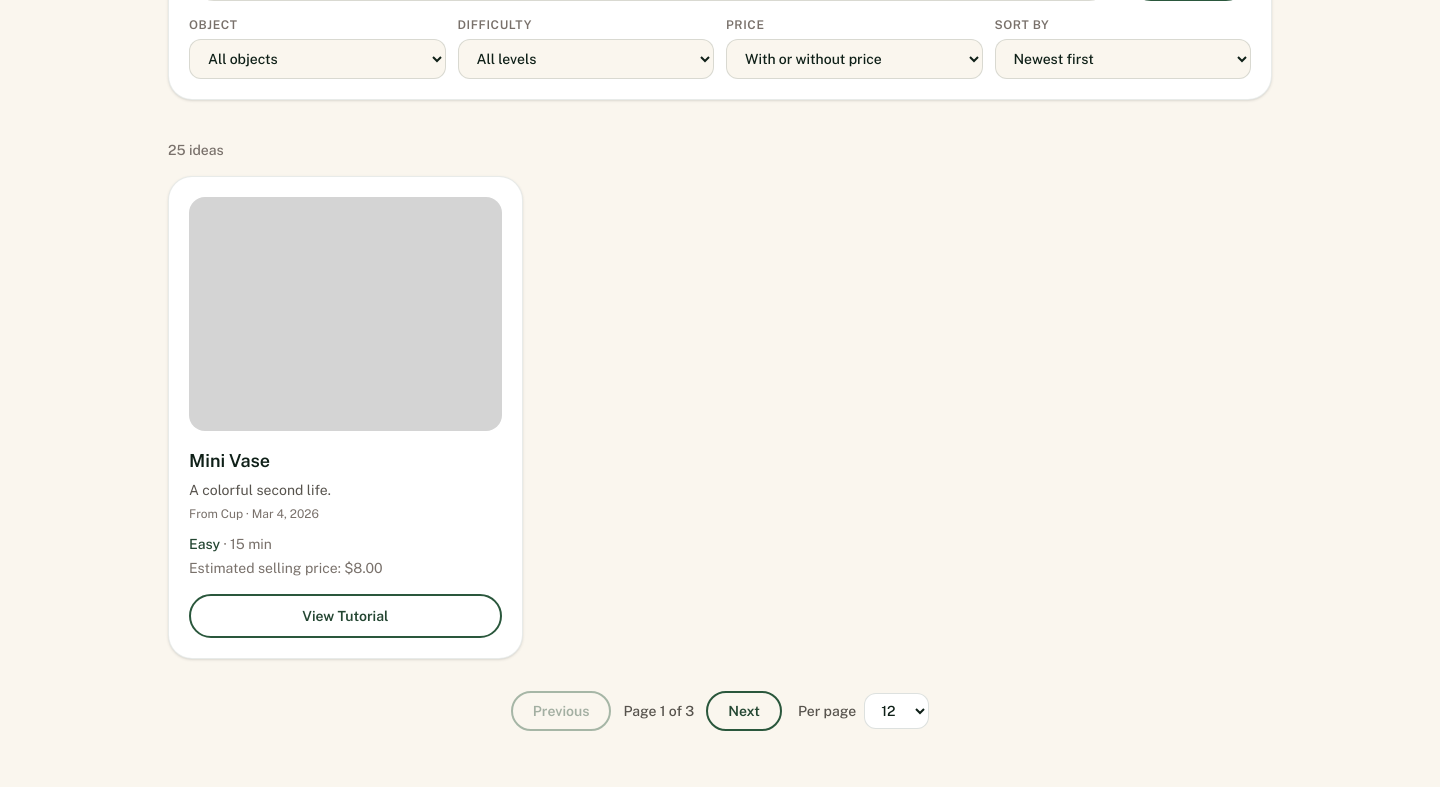
GeneratedIdeas › paginates while preserving criteria and disabling bounds
The width and height of the screenshot is (1440, 787).
(page scrolled)
Expected: the button "Previous" is disabled, [511,691,612,731]
Click the button "Next" at (744, 711), box [706,691,782,731]
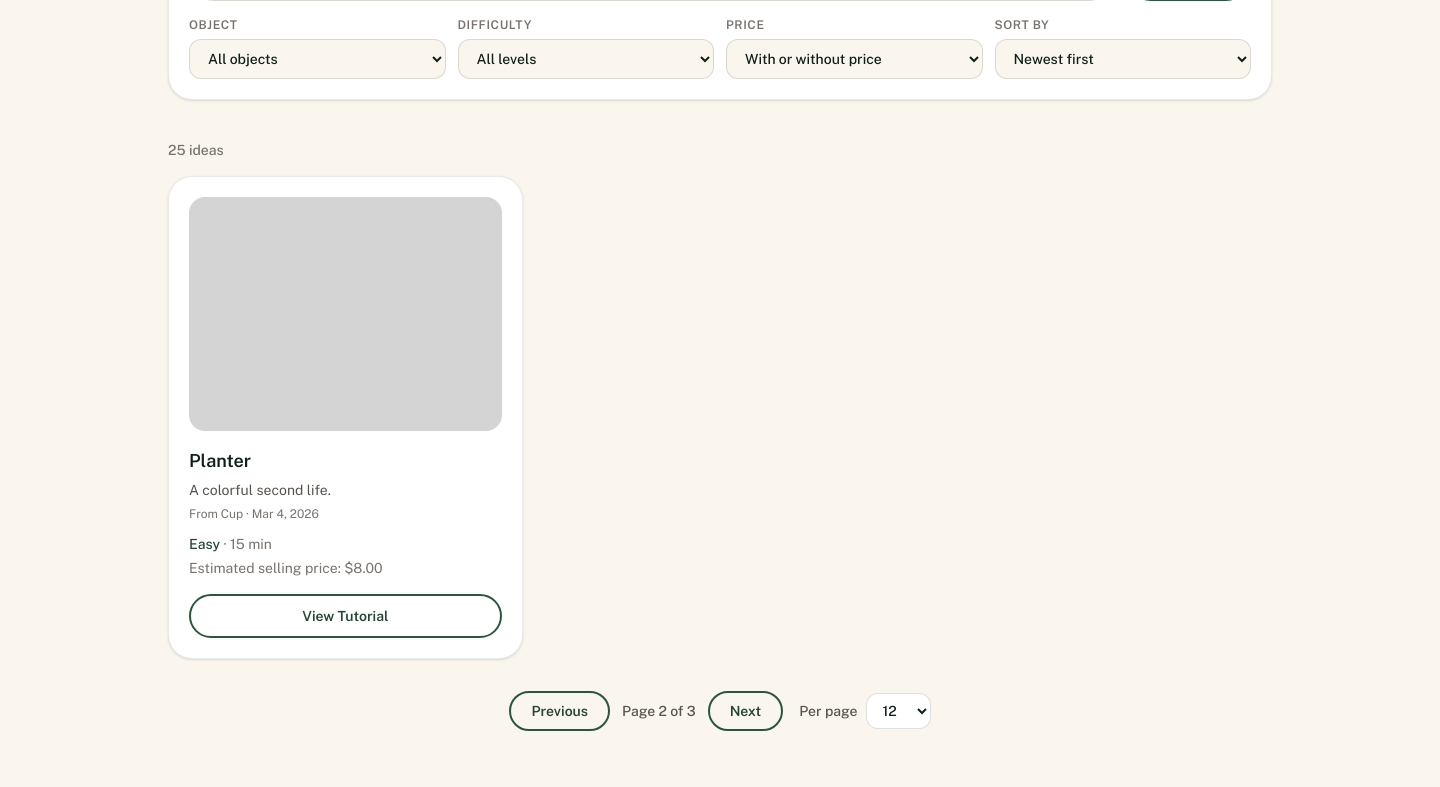
Result: the navigation bar named "Library pages" shows "Page 2 of 3" at [622,703,696,719]
